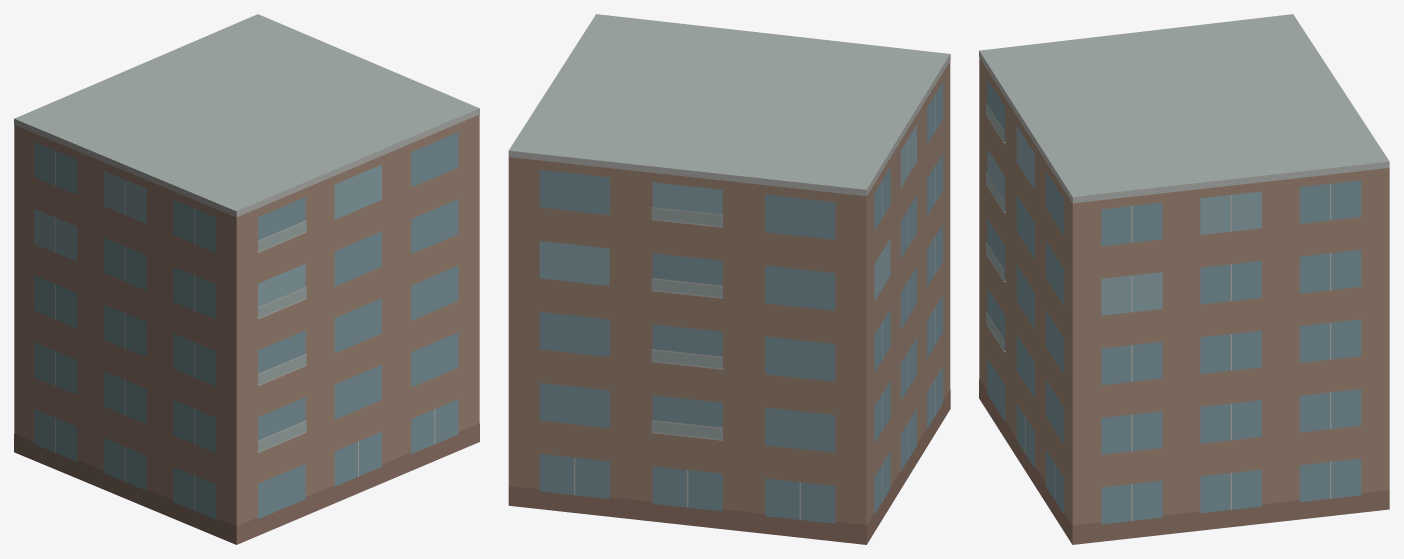
The model's file is survey-upis-32907123.glb.
3 renders of one model, left to right at view 1: azimuth 30°, elevation 25°; view 2: azimuth 150°, elevation 25°; view 3: azimuth 270°, elevation 25°, orthographic. The views are drawn at different scales.
Visible parts, largest first — view 1: survey-upis-32907123.tmp; view 2: survey-upis-32907123.tmp; view 3: survey-upis-32907123.tmp.
Boxes of the visible parts, x1,y1,x2,y2 form: survey-upis-32907123.tmp: (14,14,479,544); survey-upis-32907123.tmp: (508,14,950,544); survey-upis-32907123.tmp: (979,14,1389,544).
Size of the model in its own units: 15.28 by 13.52 by 14.48.
